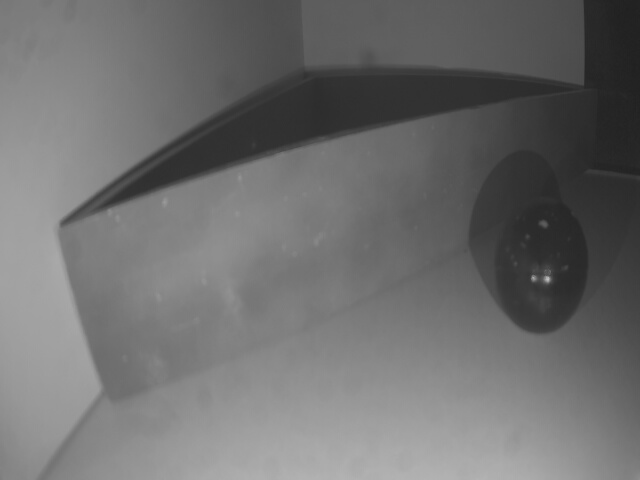Dead: (497, 197, 589, 338)
Green: (62, 88, 602, 402)
